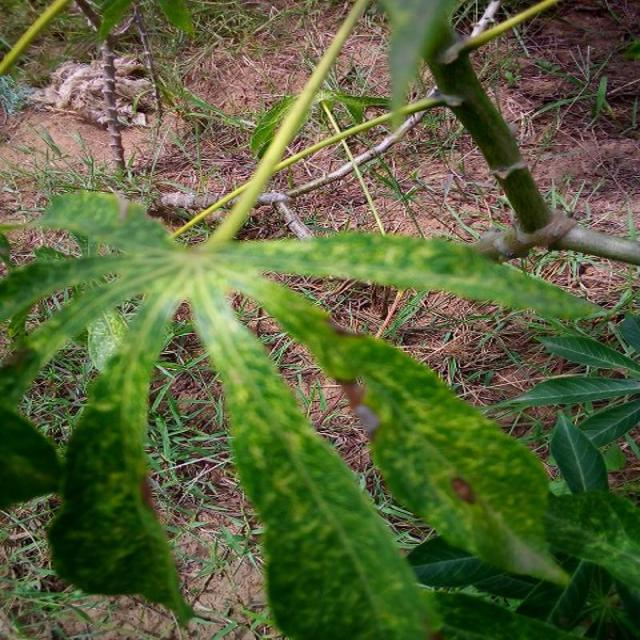cassava leaf: (2, 188, 604, 637), (220, 257, 572, 591)
